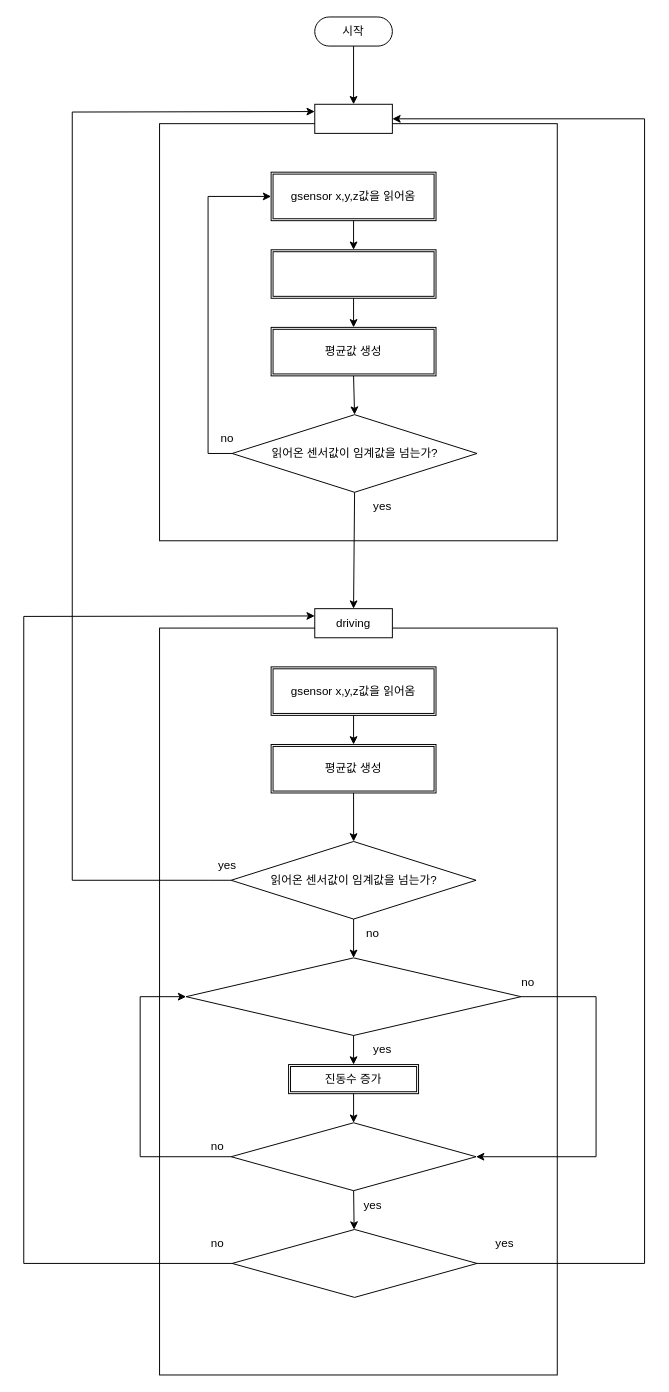
Some shapes in this 669 by 1392 pixel diagram are drawn without their labels. The shapes that lost their labels are listed below. From the top down, each one's box as (x1, y1, x2, y2) in pixels, then its label:
(314, 103, 392, 133): stop
(270, 249, 436, 298): 읽은 센서값으로 임계값 만듦 (2초마다 임계값 생성)
(185, 957, 521, 1035): 읽은 센서값의 절댓값 < 임계값(15) + 평균값 절댓값
(230, 1122, 476, 1191): 10회 넘게 진동수 확인을 했는가?
(231, 1229, 477, 1297): 진동수가 5 이상인가?
